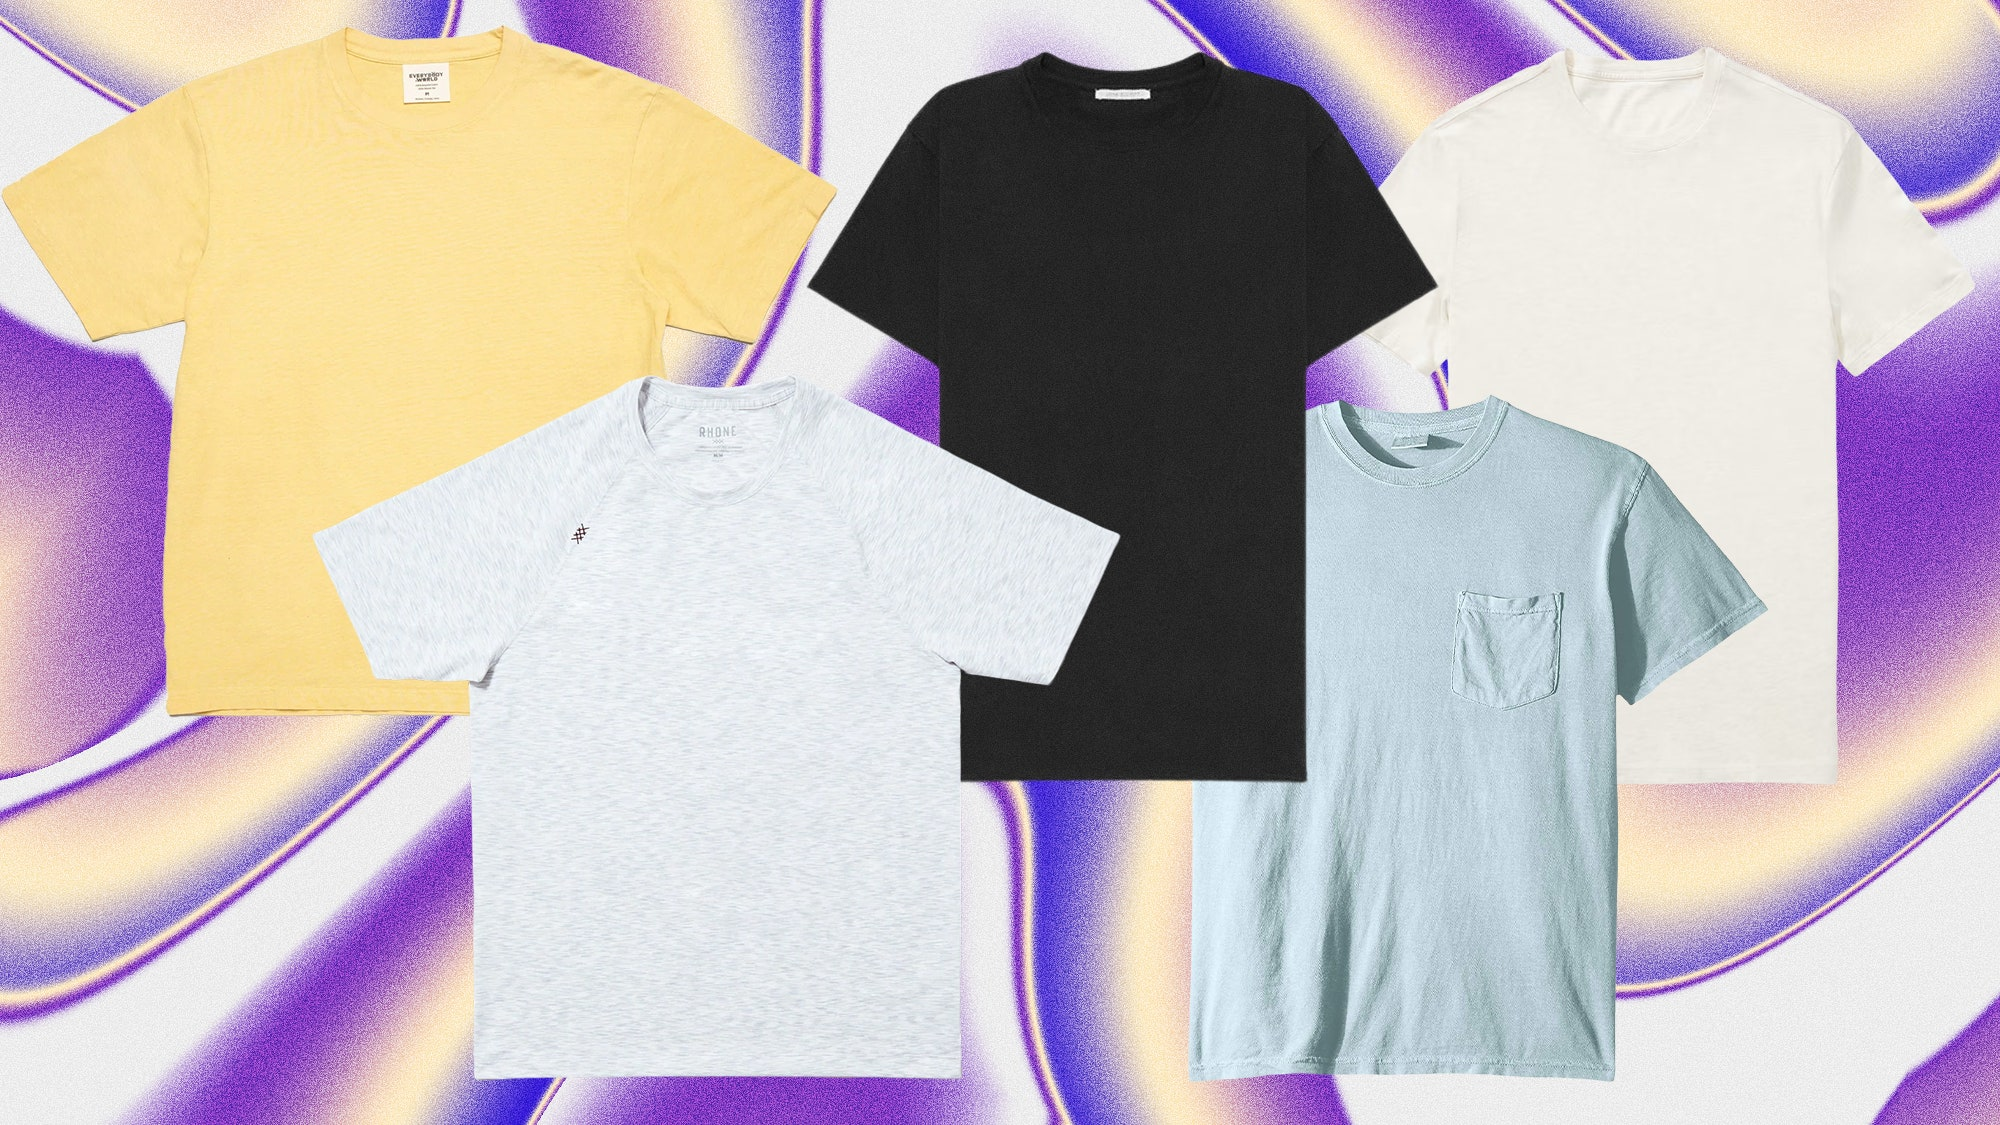blouse: (12, 38, 830, 716), (312, 376, 1060, 1082), (1352, 54, 1930, 793), (808, 49, 1368, 795), (1195, 396, 1732, 1076)
